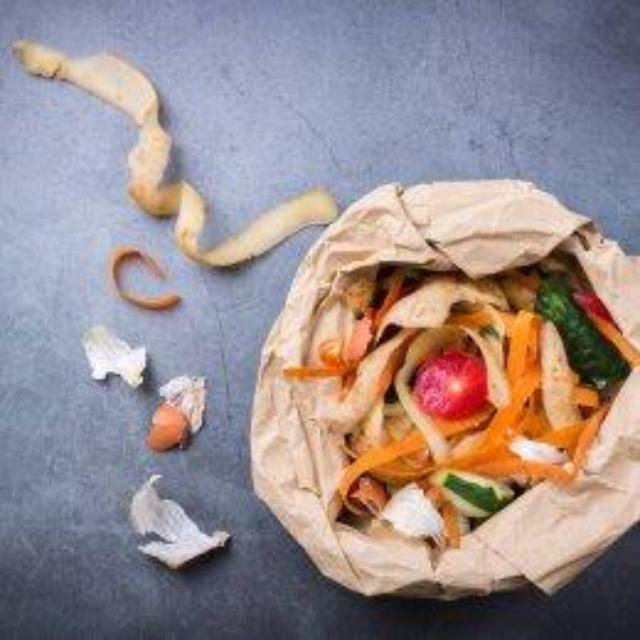Garbage: (326, 257, 639, 539)
